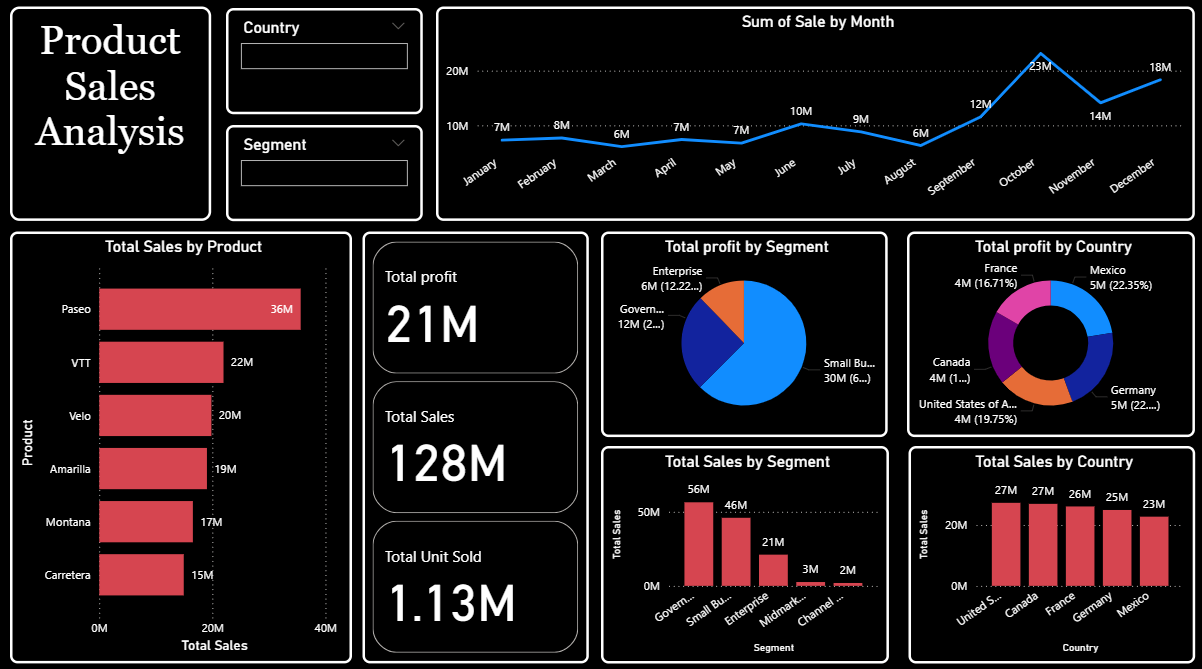

What the dashboard file says about the page in this screenshot:
{"tool":"powerbi","page":{"name":"Page 1","canvas":[1280,720],"ordinal":0},"visuals":[{"type":"textbox","box":[12.7,11.1,213.1,227.5],"z":0},{"type":"donutChart","fields":{"Y":["financials.Total profit"],"Category":["financials.Country"]},"box":[963.9,249.7,305.4,217.9],"z":1000},{"type":"columnChart","fields":{"Y":["financials.Total Sales"],"Category":["financials.Segment"]},"box":[639.4,477.2,305.4,230.6],"z":2000},{"type":"lineChart","fields":{"Category":["financials.Date.Variation.Date Hierarchy.Month"],"Y":["Sum(financials.Sale)"]},"box":[464.5,11.1,804.8,227.5],"z":3000},{"type":"pieChart","fields":{"Y":["financials.Total profit"],"Category":["financials.Segment"]},"box":[639.4,249.7,303.8,217.9],"z":4000},{"type":"clusteredColumnChart","fields":{"Y":["financials.Total Sales"],"Category":["financials.Country"]},"box":[965.5,477.2,303.8,230.6],"z":5000},{"type":"cardVisual","fields":{"Data":["financials.Total profit","financials.Total Sales","financials.Total Unit Sold"]},"box":[386.5,249.7,240.2,458.1],"z":6000},{"type":"clusteredBarChart","fields":{"Y":["financials.Total Sales"],"Category":["financials.Product"]},"box":[12.7,249.7,362.7,458.1],"z":7000},{"type":"slicer","fields":{"Values":["financials.Country"]},"box":[241.8,12.7,208.4,112.9],"z":8000},{"type":"slicer","fields":{"Values":["financials.Segment"]},"box":[241.8,136.8,208.4,101.8],"z":9000}]}

Visuals, with their boxes in screenshot pixels (x1, y1, x2, y2), scaled from the page's 1280x720 canvas onto the 1202x669 screenshot:
textbox: bbox=(12, 10, 212, 222)
donutChart - financials.Total profit x financials.Country: bbox=(905, 232, 1192, 434)
columnChart - financials.Total Sales x financials.Segment: bbox=(600, 443, 887, 658)
lineChart - financials.Date.Variation.Date Hierarchy.Month x Sum(financials.Sale): bbox=(436, 10, 1192, 222)
pieChart - financials.Total profit x financials.Segment: bbox=(600, 232, 886, 434)
clusteredColumnChart - financials.Total Sales x financials.Country: bbox=(907, 443, 1192, 658)
cardVisual - financials.Total profit x financials.Total Sales: bbox=(363, 232, 589, 658)
clusteredBarChart - financials.Total Sales x financials.Product: bbox=(12, 232, 353, 658)
slicer - financials.Country: bbox=(227, 12, 423, 117)
slicer - financials.Segment: bbox=(227, 127, 423, 222)
